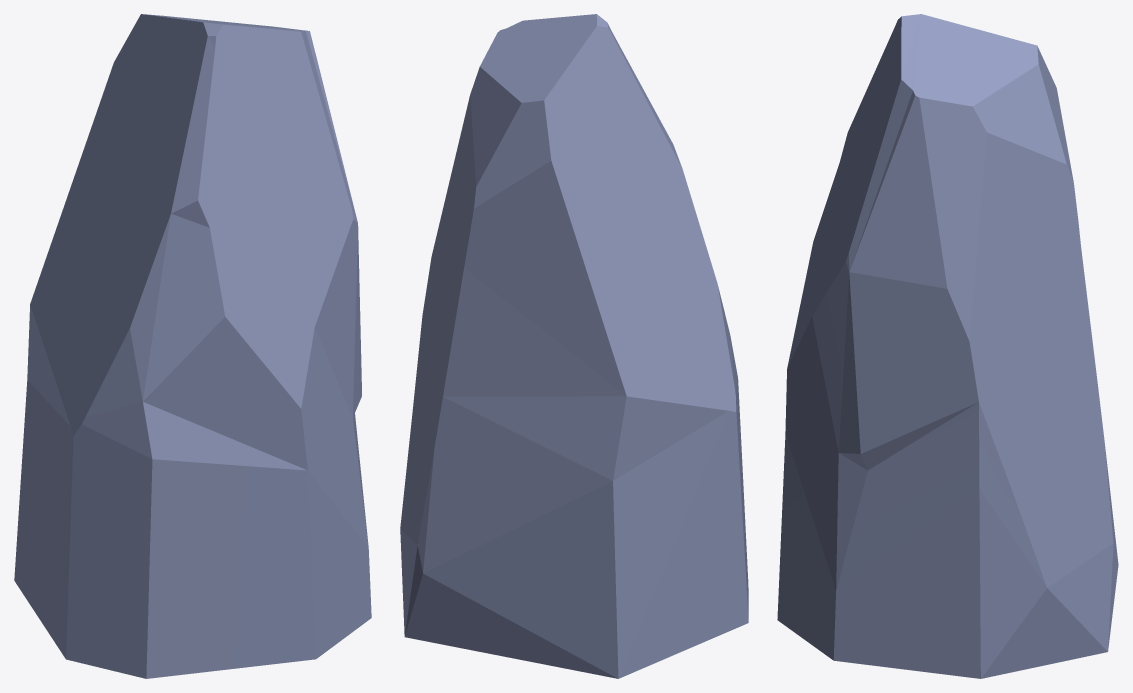
The model's file is Rock_37.fbx.
3 views of the same model, side by side, from view 1: azimuth 30°, elevation 25°; view 2: azimuth 150°, elevation 25°; view 3: azimuth 270°, elevation 25° (orthographic). The views are drawn at different scales.
Visible parts, largest first — view 1: Rock_37; view 2: Rock_37; view 3: Rock_37.
Part boxes in pixels (x1,y1,x2,y2): Rock_37: (14, 14, 371, 678); Rock_37: (400, 14, 748, 678); Rock_37: (777, 14, 1118, 678).
Bounding box in the file's own units: 1.92 × 3.53 × 1.85.
